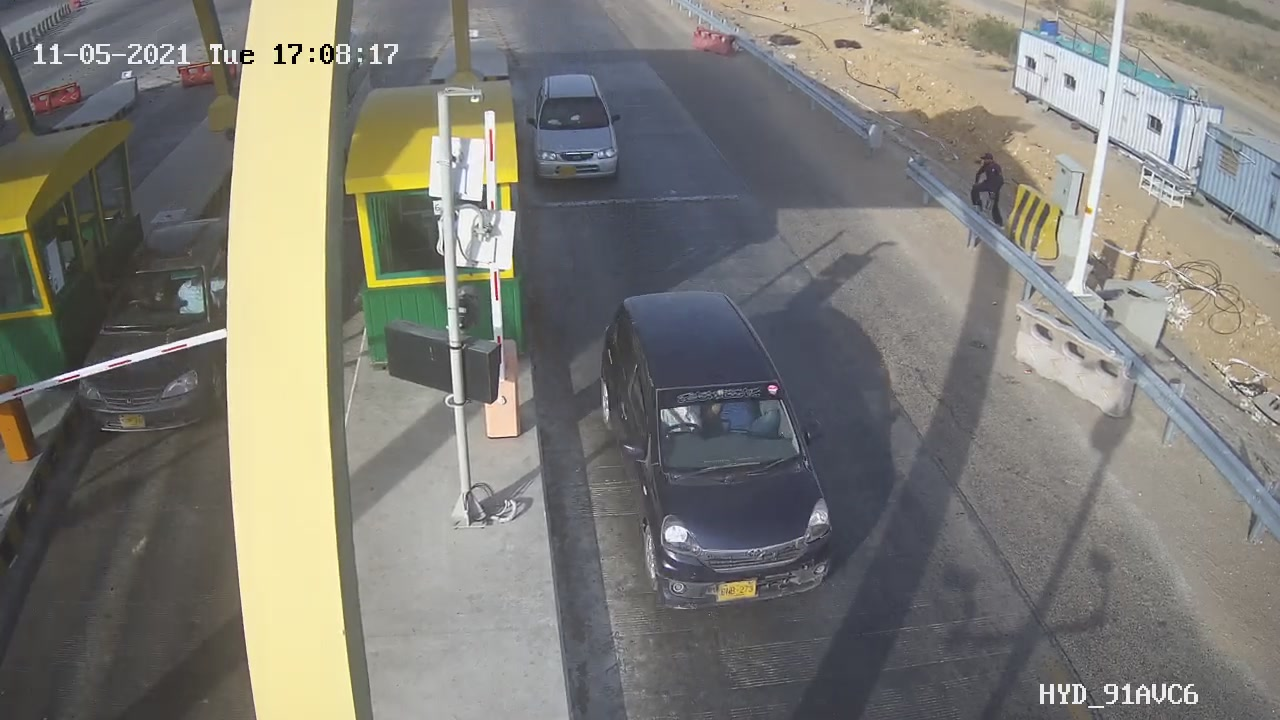F1: (513, 61, 640, 200)
